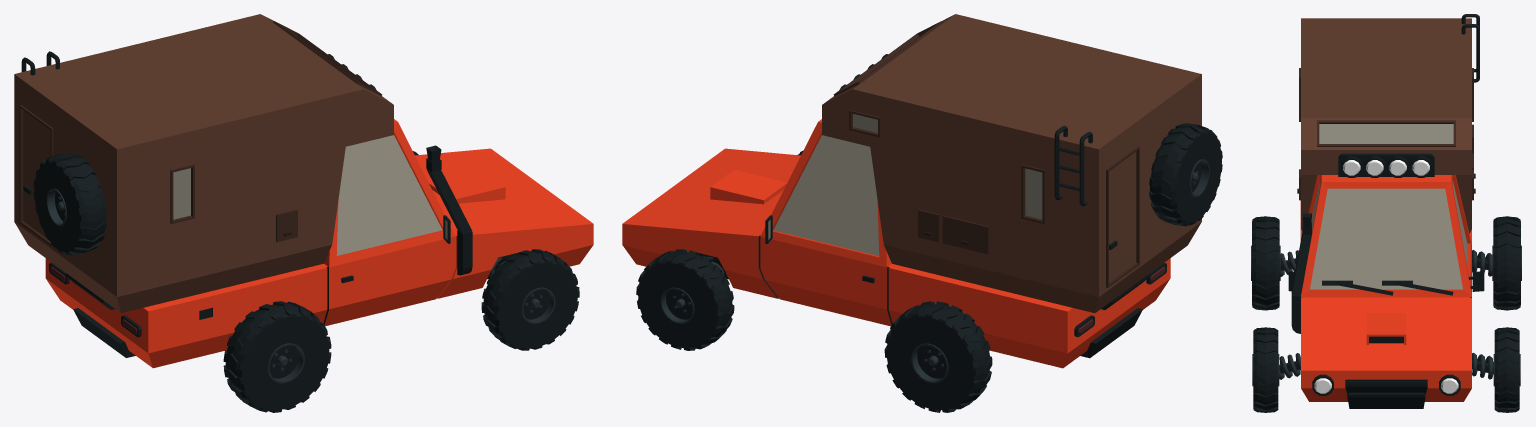
Rendered from car.obj.
3 views of the same model, side by side, from view 1: azimuth 30°, elevation 25°; view 2: azimuth 150°, elevation 25°; view 3: azimuth 270°, elevation 25° (orthographic). The views are drawn at different scales.
Visible parts, largest first — view 1: Frame_Brown_0, Frame_Orange_0, Frame_Black_0, Rear_wheel.001_Black_0, Frame_Glass_0, Front_wheel.001_Black_0, Frame_Dark_brown_0, Frame_Glass_trailer_0, Rear_wheel.001_Light_black_0, Front_wheel.001_Light_black_0; view 2: Frame_Brown_0, Frame_Orange_0, Frame_Black_0, Rear_wheel_Black_0, Frame_Glass_0, Front_wheel_Black_0, Frame_Dark_brown_0, Frame_Glass_trailer_0, Rear_wheel_Light_black_0; view 3: Frame_Brown_0, Frame_Orange_0, Frame_Glass_0, Frame_Black_0, Frame_Glass_trailer_0, Rear_wheel.001_Black_0, Rear_wheel_Black_0, Front_wheel.001_Black_0, Front_wheel_Black_0, Frame_Dark_brown_0, Frame_Light_0, Spring_Light_black_0 (+3 smaller).
Part boxes in pixels (bbox=[...]): Frame_Brown_0: bbox=[14, 14, 393, 312]; Frame_Orange_0: bbox=[45, 119, 593, 368]; Frame_Black_0: bbox=[21, 51, 518, 357]; Rear_wheel.001_Black_0: bbox=[223, 301, 331, 412]; Frame_Glass_0: bbox=[336, 135, 442, 255]; Front_wheel.001_Black_0: bbox=[481, 249, 579, 350]; Frame_Dark_brown_0: bbox=[19, 21, 382, 246]; Frame_Glass_trailer_0: bbox=[173, 168, 447, 239]; Rear_wheel.001_Light_black_0: bbox=[267, 343, 304, 383]; Front_wheel.001_Light_black_0: bbox=[521, 287, 555, 323]; Frame_Brown_0: bbox=[822, 14, 1201, 313]; Frame_Orange_0: bbox=[622, 119, 1170, 368]; Frame_Black_0: bbox=[699, 54, 1222, 358]; Rear_wheel_Black_0: bbox=[884, 301, 992, 412]; Frame_Glass_0: bbox=[773, 135, 879, 255]; Front_wheel_Black_0: bbox=[636, 249, 734, 350]; Frame_Dark_brown_0: bbox=[833, 21, 1139, 287]; Frame_Glass_trailer_0: bbox=[768, 114, 1042, 239]; Rear_wheel_Light_black_0: bbox=[911, 343, 948, 383]; Frame_Brown_0: bbox=[1301, 18, 1471, 233]; Frame_Orange_0: bbox=[1300, 175, 1471, 401]; Frame_Glass_0: bbox=[1310, 180, 1467, 289]; Frame_Black_0: bbox=[1288, 14, 1484, 408]; Frame_Glass_trailer_0: bbox=[1319, 124, 1453, 143]; Rear_wheel.001_Black_0: bbox=[1252, 216, 1279, 310]; Rear_wheel_Black_0: bbox=[1493, 216, 1520, 310]; Front_wheel.001_Black_0: bbox=[1253, 327, 1278, 412]; Front_wheel_Black_0: bbox=[1494, 327, 1519, 412]; Frame_Dark_brown_0: bbox=[1299, 68, 1473, 200]; Frame_Light_0: bbox=[1314, 160, 1458, 393]; Spring_Light_black_0: bbox=[1472, 352, 1493, 379].
Size of what is drawn, in the model's own units: 575 by 310 by 316.
